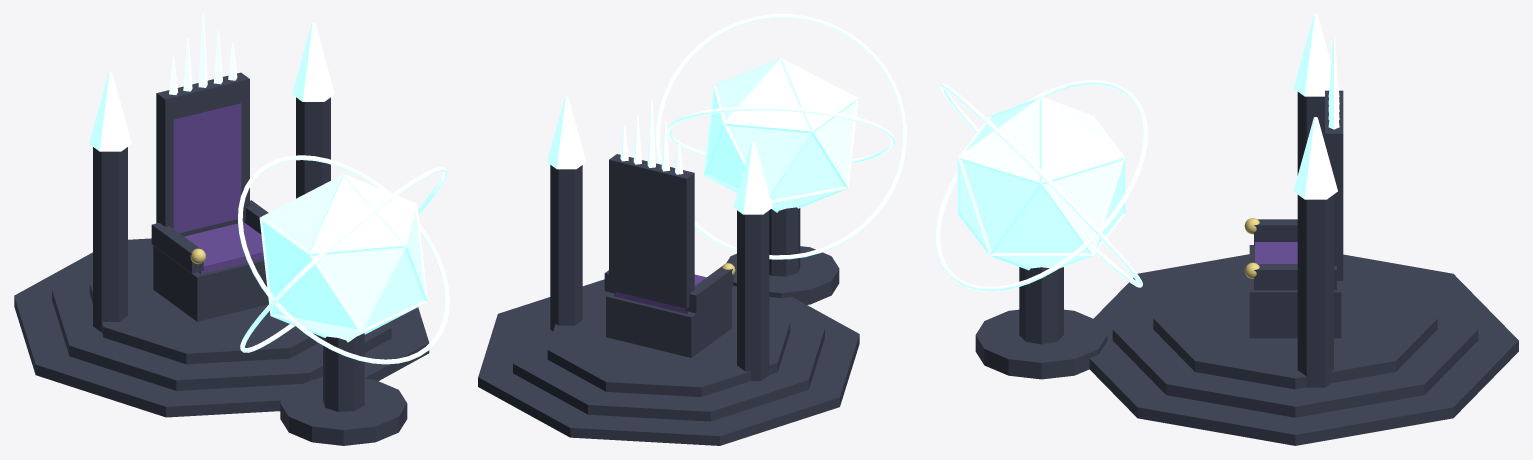
File: san1_sanctum.glb
The picture shows the model from 3 angles, left to right: view 1: azimuth 30°, elevation 25°; view 2: azimuth 150°, elevation 25°; view 3: azimuth 270°, elevation 25°; orthographic projection. The views are drawn at different scales.
Visible parts, largest first — view 1: GlassHeartOuterCage, ThroneDaisTier_0, ThroneDaisTier_1, ThroneDaisTier_2, ThroneBackVelvet, ThronePillar_-1.2, GlassHeartPedestalBase, ThroneBackrest, ThroneSeatBase, StarlightGimbalRing1, ThronePillar_1.2, GlassHeartPedestalCol (+7 smaller); view 2: GlassHeartOuterCage, ThroneDaisTier_0, ThroneDaisTier_1, ThroneBackrest, ThroneDaisTier_2, ThroneSeatBase, ThronePillar_-1.2, ThronePillar_1.2, StarlightGimbalRing2, GlassHeartPedestalBase, GlassHeartPedestalCol, ThroneSpireCap_1.2 (+4 smaller); view 3: GlassHeartOuterCage, ThroneDaisTier_0, ThroneDaisTier_2, ThroneDaisTier_1, ThronePillar_1.2, GlassHeartPedestalBase, GlassHeartPedestalCol, ThroneSeatBase, StarlightGimbalRing1, StarlightGimbalRing2, ThroneSpireCap_1.2, ThroneBackrest (+5 smaller).
Boxes of the visible parts, x1,y1,x2,y2 form: GlassHeartOuterCage: (259, 174, 427, 342); ThroneDaisTier_0: (14, 238, 429, 417); ThroneDaisTier_1: (52, 243, 391, 390); ThroneDaisTier_2: (89, 248, 322, 364); ThroneBackVelvet: (173, 103, 241, 233); ThronePillar_-1.2: (93, 147, 127, 332); GlassHeartPedestalBase: (280, 378, 407, 445); ThroneBackrest: (156, 72, 249, 236); ThroneSeatBase: (153, 245, 268, 321); StarlightGimbalRing1: (238, 155, 449, 364); ThronePillar_1.2: (296, 97, 330, 198); GlassHeartPedestalCol: (323, 333, 364, 411); GlassHeartOuterCage: (703, 58, 858, 212); ThroneDaisTier_0: (478, 279, 859, 445); ThroneDaisTier_1: (513, 285, 824, 421); ThroneBackrest: (609, 154, 694, 308); ThroneDaisTier_2: (547, 290, 790, 396); ThroneSeatBase: (606, 288, 731, 357); ThronePillar_-1.2: (737, 210, 769, 380); ThronePillar_1.2: (550, 165, 582, 331); StarlightGimbalRing2: (655, 14, 906, 259); GlassHeartPedestalBase: (726, 246, 839, 304); GlassHeartPedestalCol: (769, 207, 800, 276); ThroneSpireCap_1.2: (547, 96, 586, 169); GlassHeartOuterCage: (957, 96, 1125, 270); ThroneDaisTier_0: (1089, 254, 1518, 445); ThroneDaisTier_2: (1153, 266, 1437, 389); ThroneDaisTier_1: (1112, 260, 1478, 417); ThronePillar_1.2: (1297, 194, 1333, 387); GlassHeartPedestalBase: (975, 309, 1107, 379); GlassHeartPedestalCol: (1019, 267, 1063, 344); ThroneSeatBase: (1249, 245, 1341, 338); StarlightGimbalRing1: (935, 80, 1147, 291); StarlightGimbalRing2: (940, 84, 1142, 287); ThroneSpireCap_1.2: (1293, 117, 1337, 199); ThroneBackrest: (1325, 90, 1343, 280).
Size of the model in its own units: 4.4 by 3.41 by 5.75.
